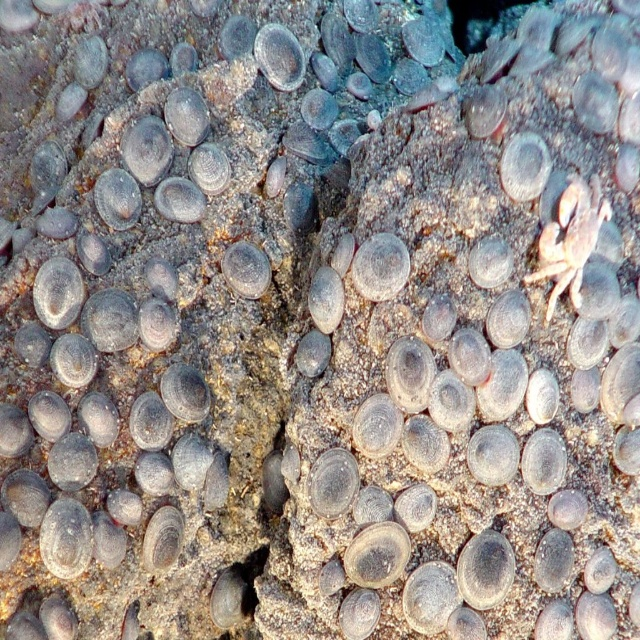Crab: (524, 170, 613, 324)
